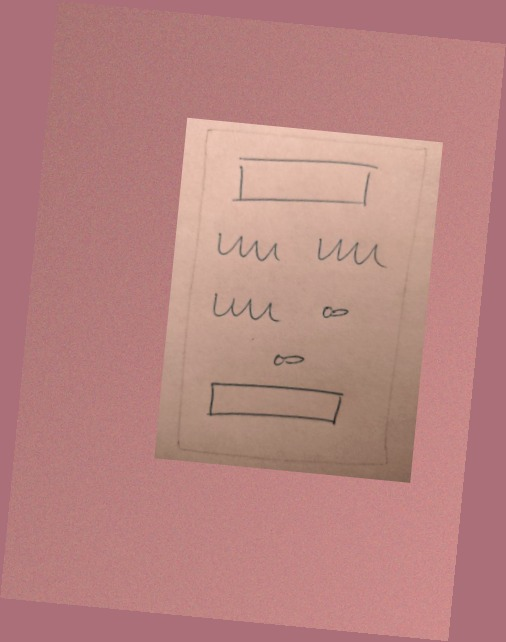switch: (313, 296, 359, 327), (268, 344, 308, 373)
text: (310, 228, 396, 272), (204, 286, 287, 329), (210, 224, 288, 268)
text_input: (223, 145, 385, 220), (202, 374, 350, 433)
